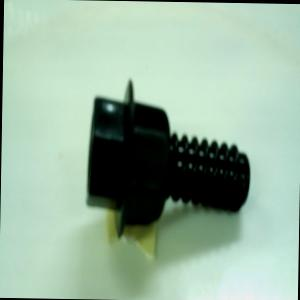parafuso: (84, 74, 252, 238), (84, 77, 253, 238)
